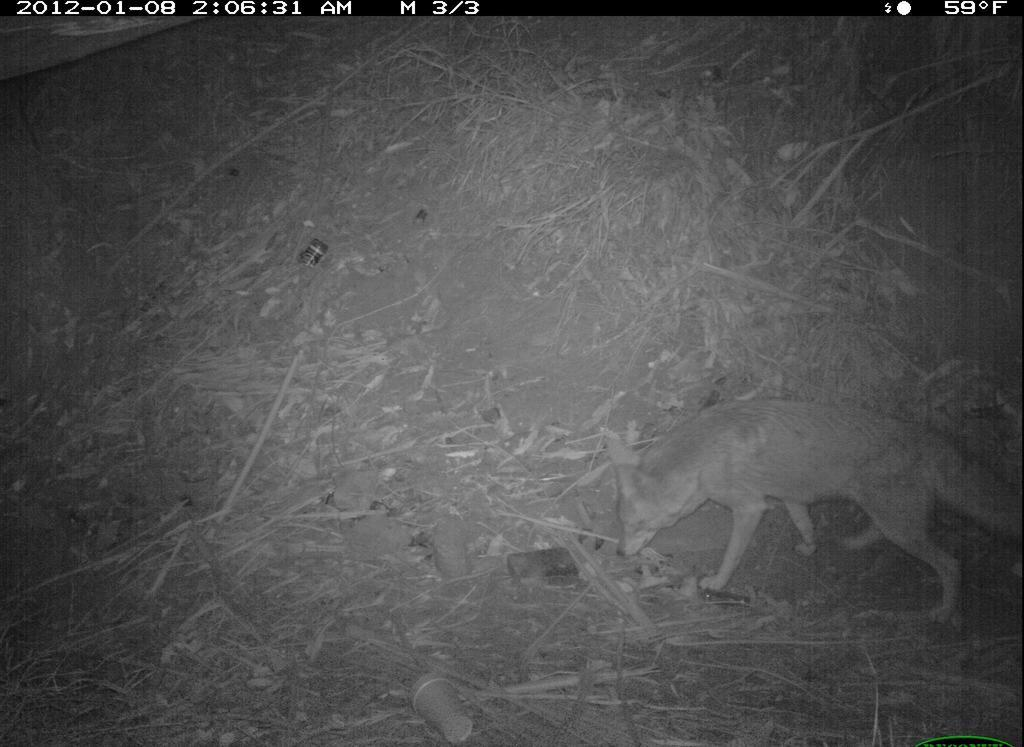coyote: (593, 388, 1024, 630)
